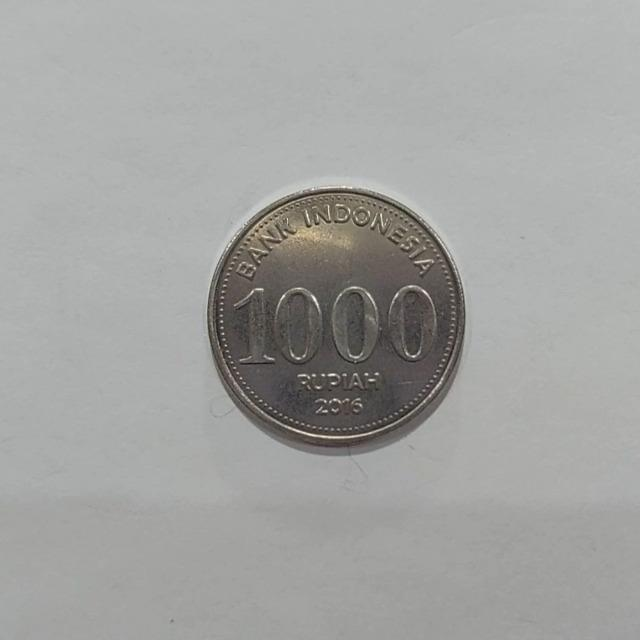Rp100: (205, 183, 467, 455)
